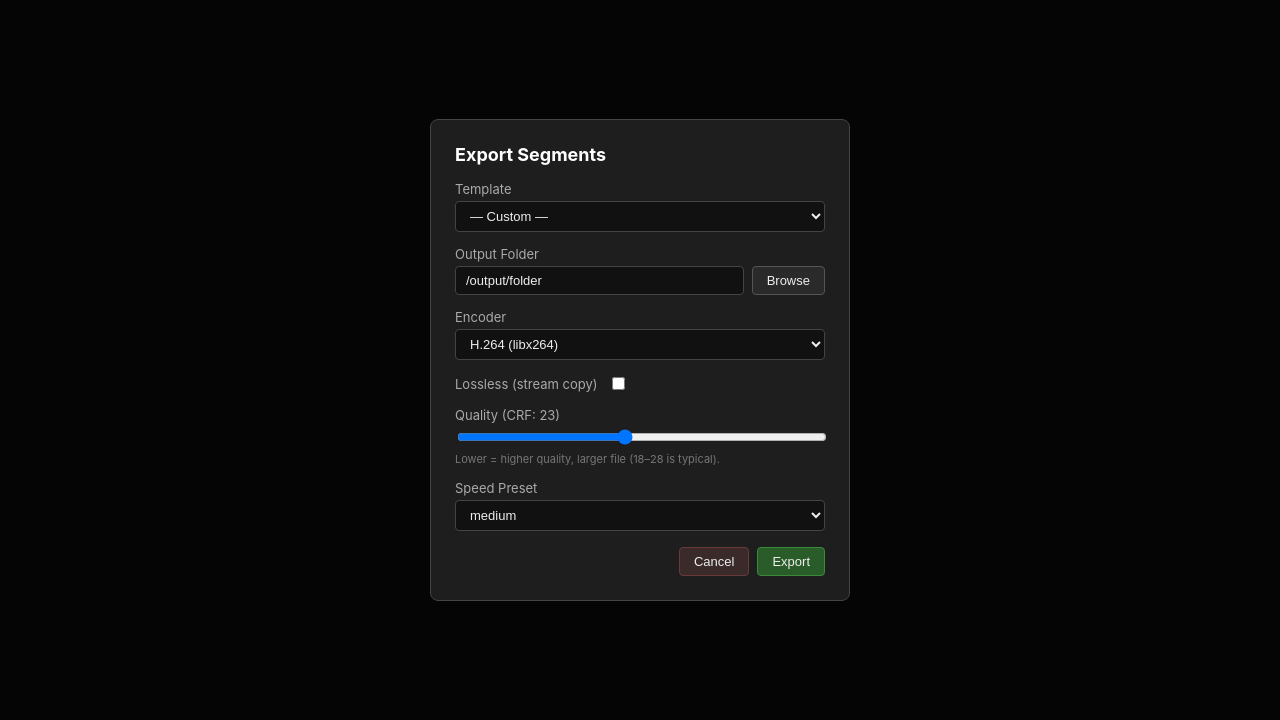
ExportDialog › applying YouTube H.264 template sets codec to h264 and crf to 18
The image size is (1280, 720).
Select "YouTube (H.264 High Quality)" in the dropdown named "export template" at (640, 216), box x1=455 y1=201 x2=825 y2=232
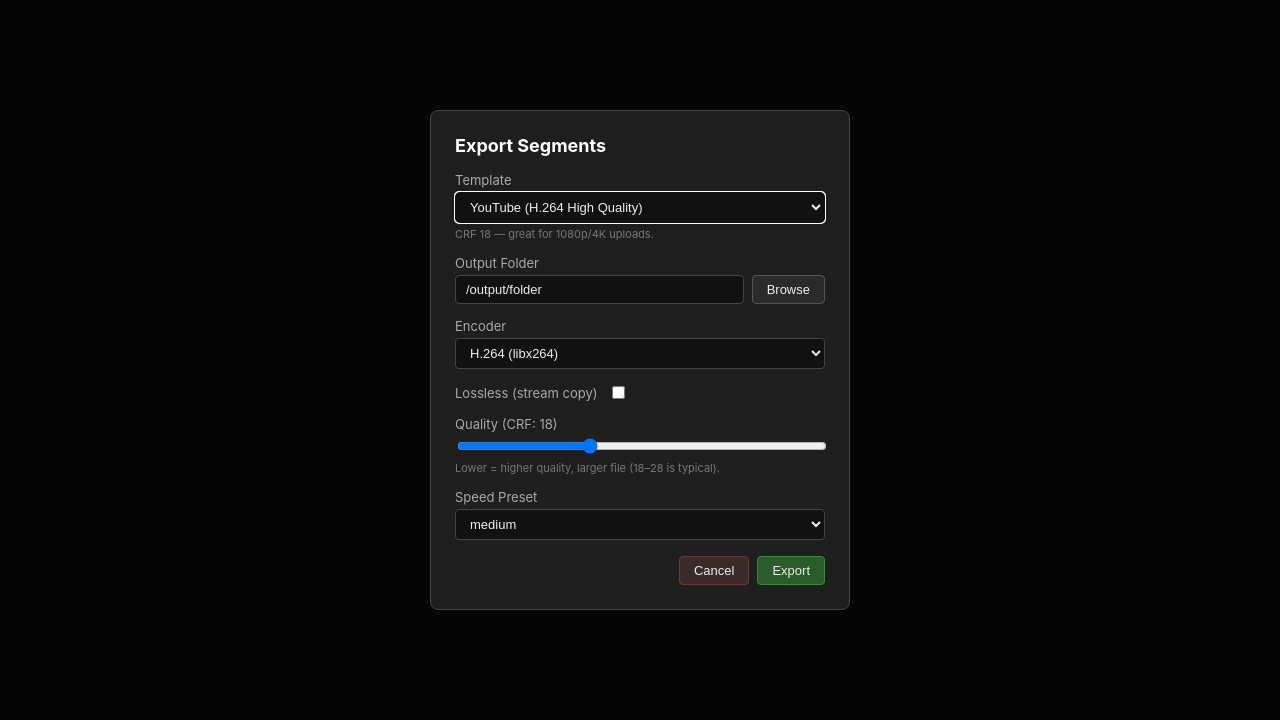
Check: the dropdown named "codec" shows "H.264 (libx264)", box x1=455 y1=338 x2=825 y2=369
Check: the slider labelled "Quality (CRF: 18)" holds "18", box x1=457 y1=438 x2=827 y2=454
